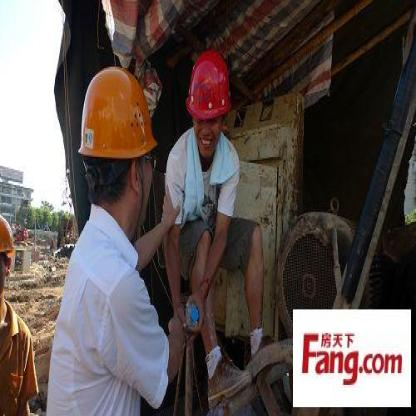capacete: (77, 61, 161, 175), (184, 52, 233, 125)
